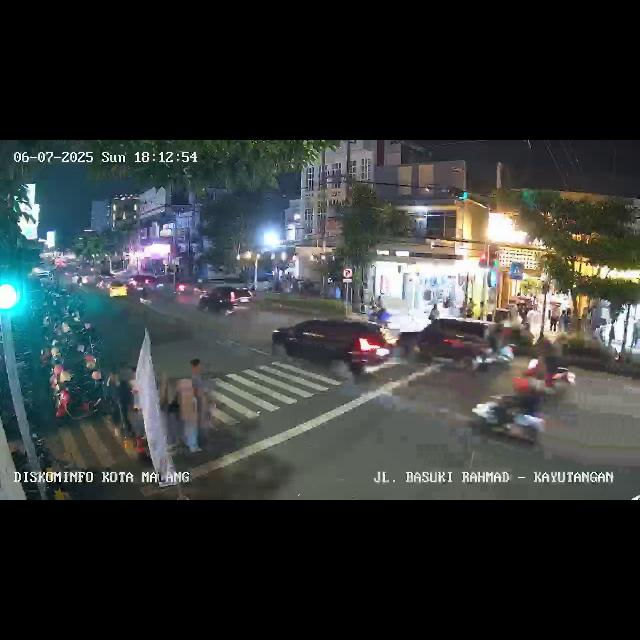car: (275, 316, 393, 386), (408, 318, 509, 374), (196, 280, 254, 316), (96, 273, 136, 299)
motorcycle: (468, 375, 552, 453), (514, 336, 576, 399), (470, 326, 514, 376)
person: (174, 375, 202, 453), (190, 358, 214, 438), (550, 301, 560, 333), (561, 304, 571, 334), (632, 319, 640, 349), (428, 302, 439, 322), (608, 322, 616, 348)
